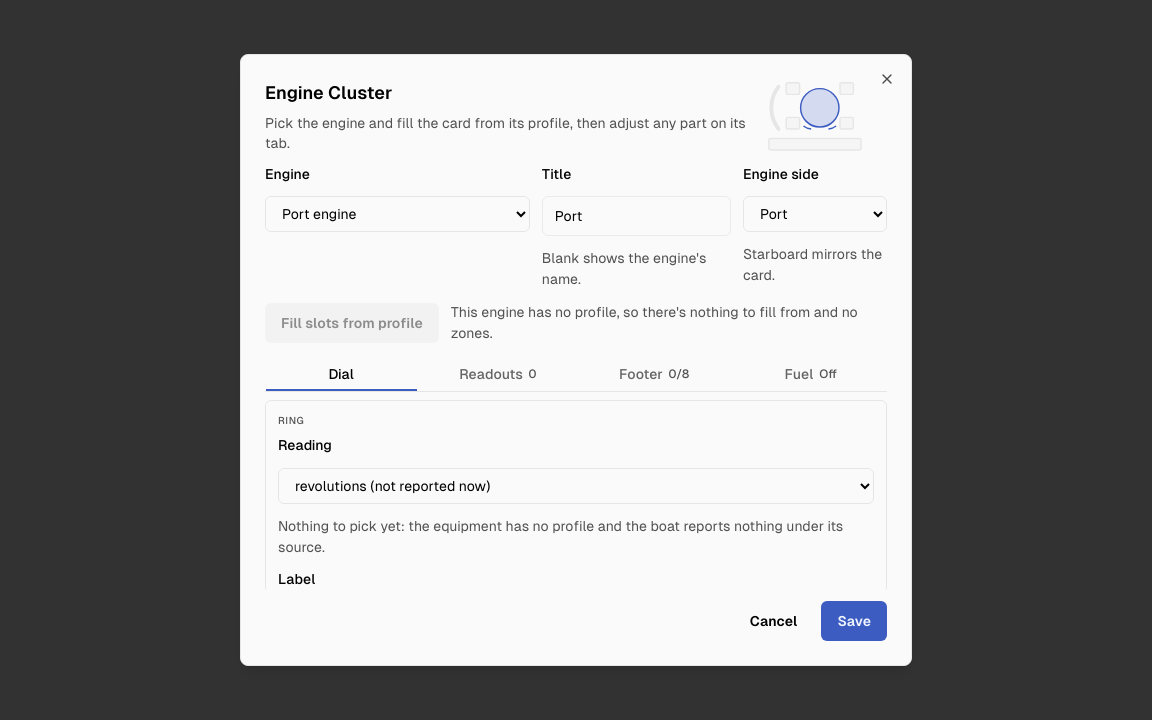
the fuel rail section › offers no more than two tanks, the two arcs the fan draws
Click the tab "Fuel Off".
click(811, 374)  # box [734,356,887,391]
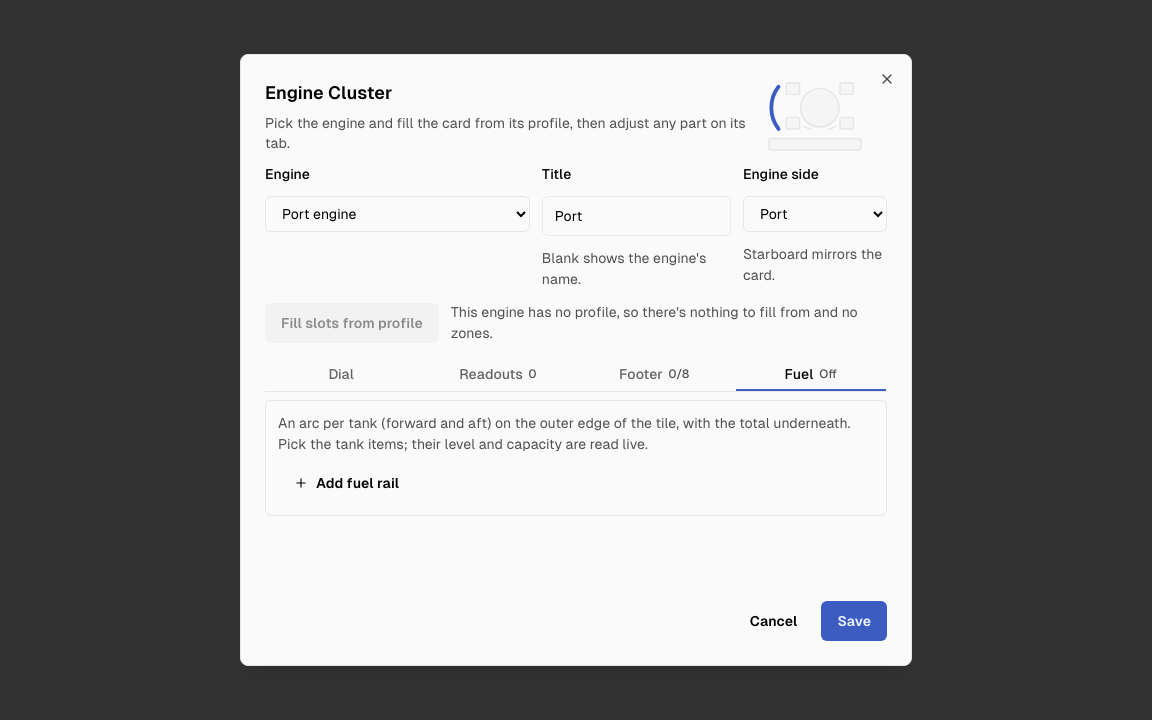
Click the button "Add fuel rail".
click(347, 483)  # box [278,463,415,503]
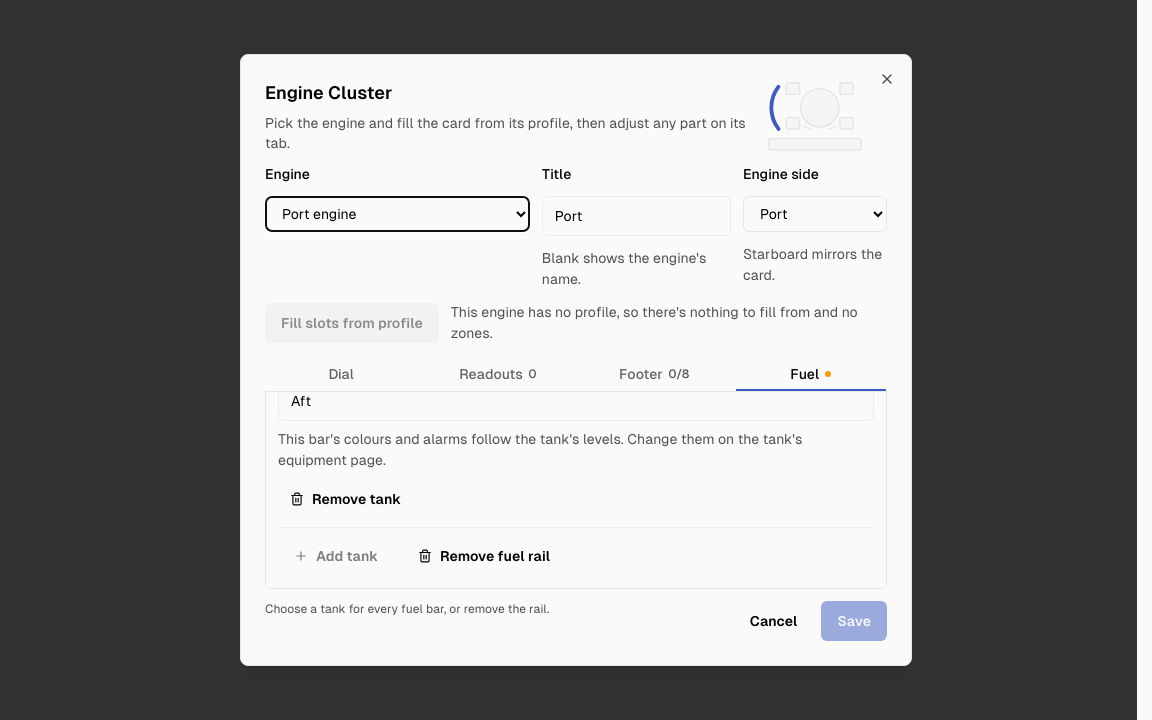
Expected: the button "Add tank" is disabled, [278,536,394,576]
